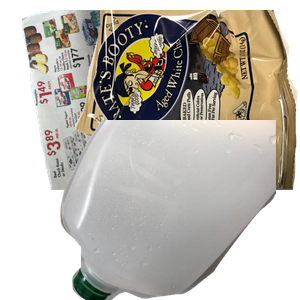glass: (58, 170, 202, 300)
paper: (19, 10, 223, 190)
plastic: (60, 120, 300, 300)
trash: (75, 10, 300, 190)
